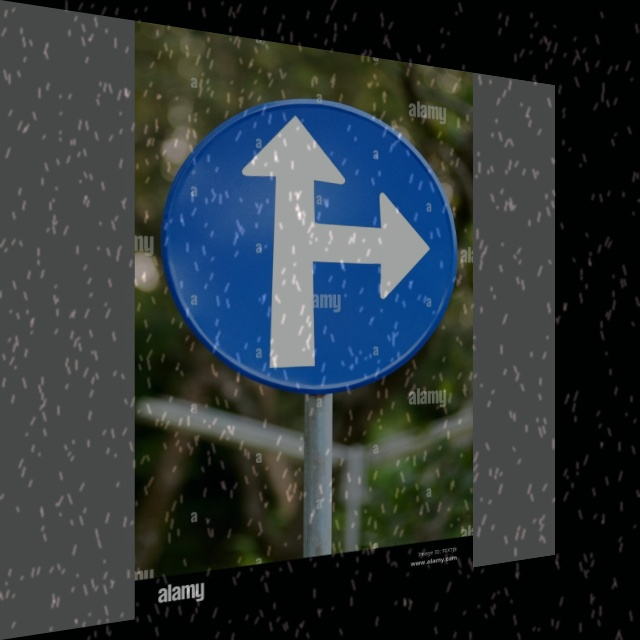Compulsory_Ahead_or_Turn_Right: (164, 77, 450, 396)
